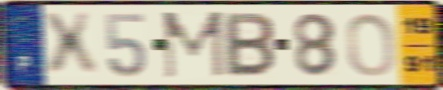5: (103, 11, 148, 80)
8: (291, 11, 339, 79)
B: (224, 11, 277, 79)
M: (160, 9, 227, 81)
O: (344, 11, 397, 79)
X: (39, 10, 102, 80)
